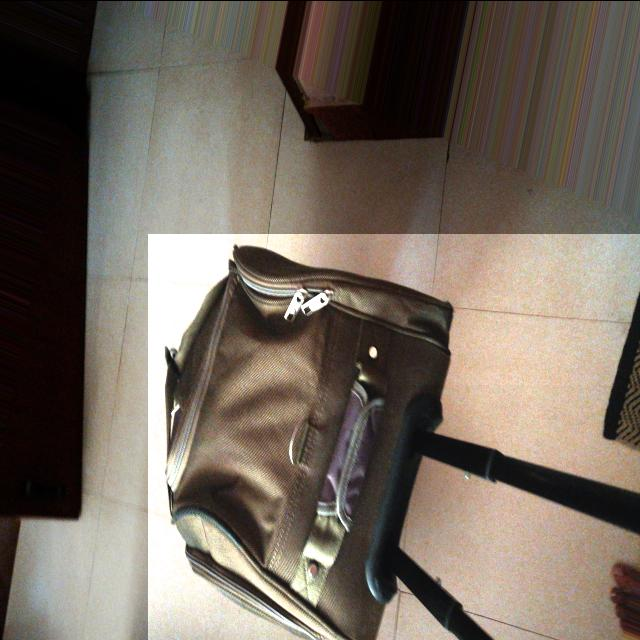Bag: (157, 229, 631, 639)
Handle: (377, 425, 640, 640)
